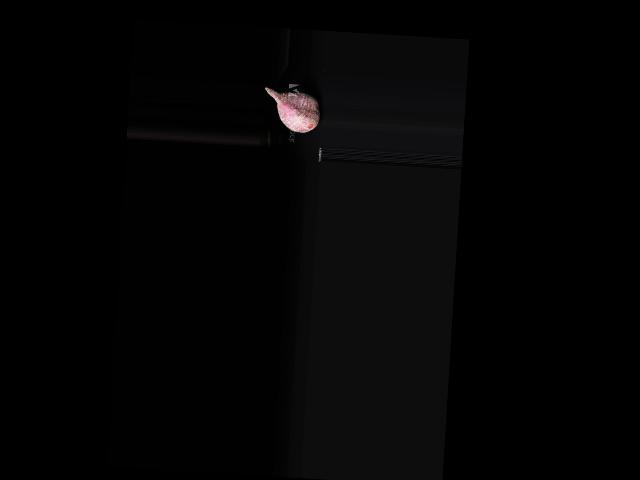beet: (262, 88, 321, 134)
